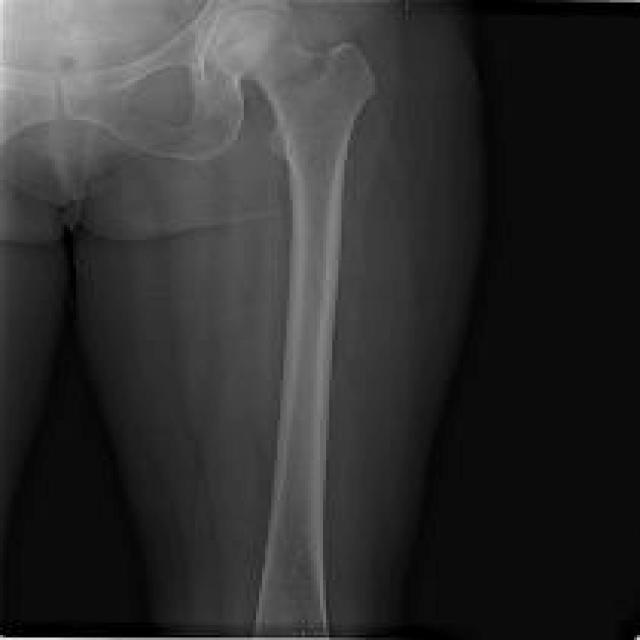normal: (0, 0, 376, 632)
